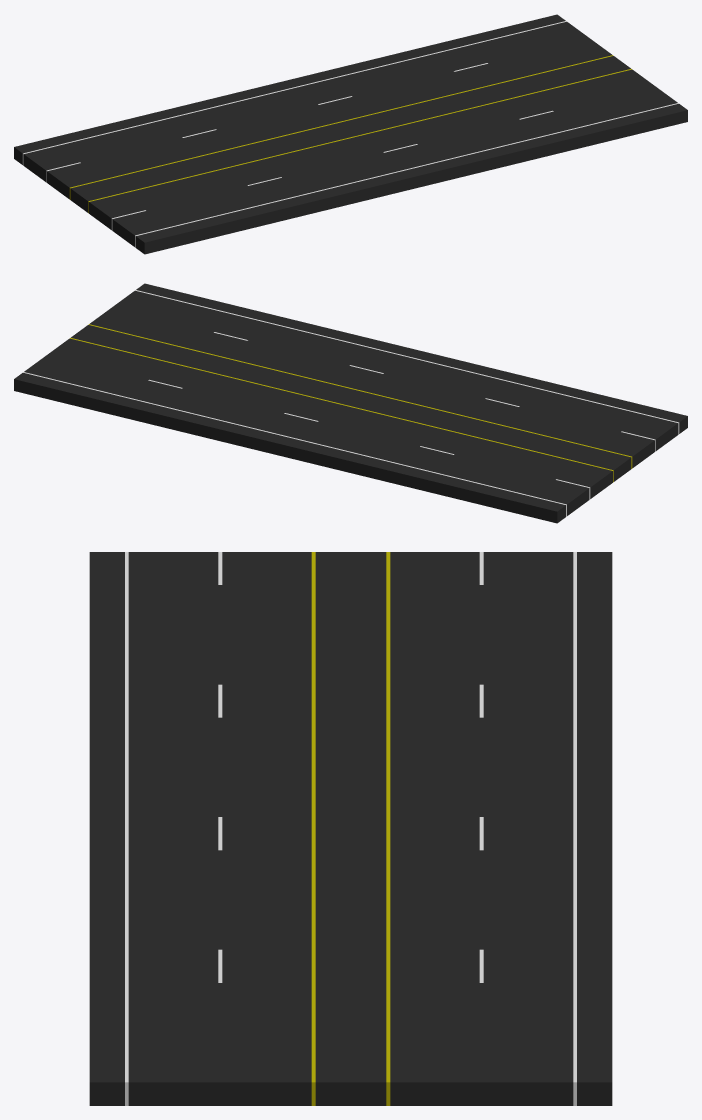
File: road.fbx
3 renders of one model, top to bottom at view 1: azimuth 30°, elevation 25°; view 2: azimuth 150°, elevation 25°; view 3: azimuth 270°, elevation 25°, orthographic. The views are drawn at different scales.
Parts seen in each view (by area): view 1: Cube; view 2: Cube; view 3: Cube.
Part boxes in pixels (x1,y1,x2,y2): Cube: (14,14,687,254); Cube: (14,283,687,523); Cube: (89,552,612,1105).
Size of the model in its own units: 4800 by 100 by 2000.
